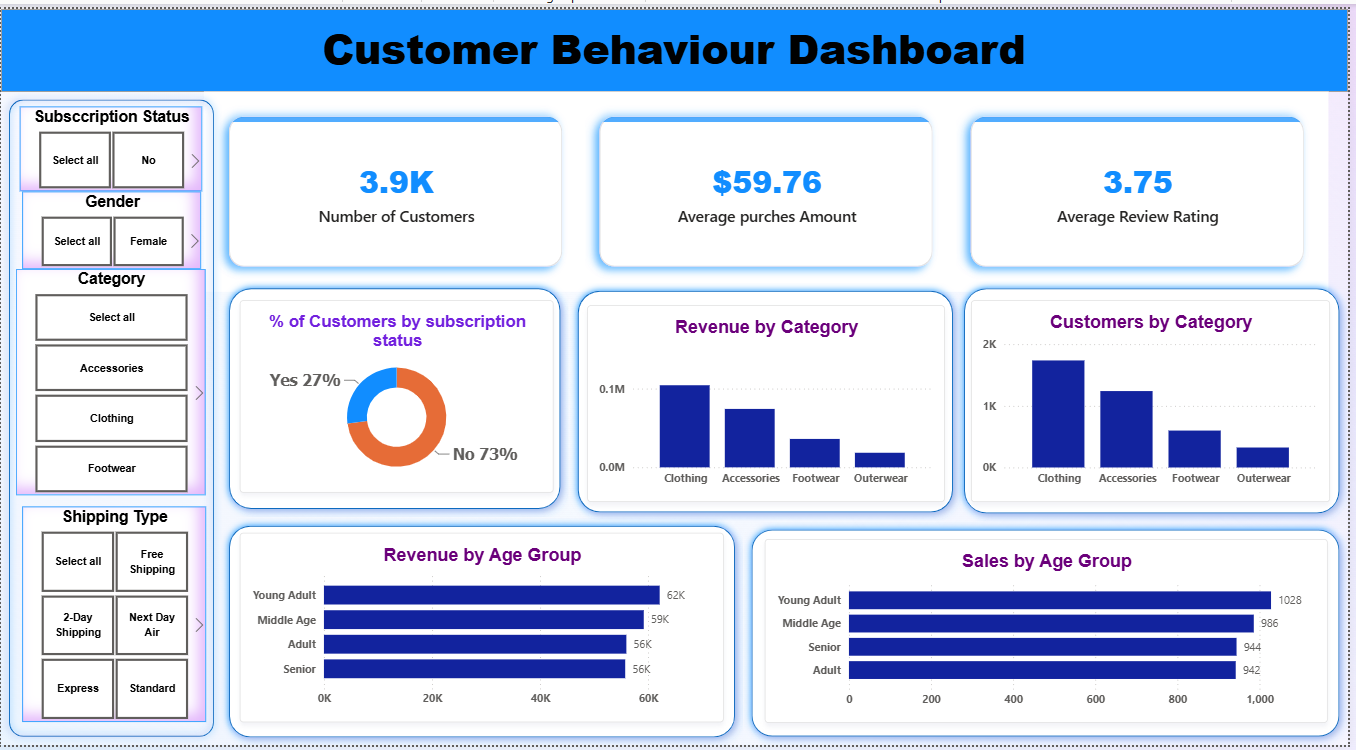

This screenshot's page, from the dashboard's own definition file:
{"tool":"powerbi","page":{"name":"Page 1","canvas":[1500,820],"ordinal":0},"visuals":[{"type":"textbox","title":"Customer Behaviour Dashboard","box":[0,0,1499.6,91.8],"z":0},{"type":"cardVisual","fields":{"Data":["Table.total_customers","Table.Average_purches_Amount","Table.Average_Review_Rating"]},"box":[206.5,91.8,1293.1,223.2],"z":1000},{"type":"shape","box":[245.2,302.6,387.2,263.8],"z":2000},{"type":"shape","box":[1063.5,302.6,436.2,268.8],"z":3000},{"type":"donutChart","title":"% of Customers by subscription status","fields":{"Category":["customer_behaviour customers.subscription_status"],"Y":["CountNonNull(customer_behaviour customers.customer_id)"]},"box":[265.4,324.6,350,214.7],"z":4000},{"type":"shape","box":[634,304.5,435.9,264.9],"z":5000},{"type":"clusteredColumnChart","title":"Revenue by Category","fields":{"Category":["customer_behaviour customers.category"],"Y":["Sum(customer_behaviour customers.purches_amount)"]},"box":[652.8,329.5,398.4,219],"z":6000},{"type":"clusteredColumnChart","title":"Customers by Category","fields":{"Category":["customer_behaviour customers.category"],"Y":["CountNonNull(customer_behaviour customers.customer_id)"]},"box":[1080.1,324.4,400.3,224.7],"z":7000},{"type":"shape","box":[0,91.8,246.1,727.9],"z":8000},{"type":"slicer","title":"Subsccription  Status","fields":{"Values":["customer_behaviour customers.subscription_status"]},"box":[20.3,108.2,202.9,94.7],"z":9000},{"type":"slicer","title":"Gender","fields":{"Values":["customer_behaviour customers.gender"]},"box":[23.7,202.9,199.5,86.2],"z":10000},{"type":"slicer","title":"Category","fields":{"Values":["customer_behaviour customers.category"]},"box":[16.9,289.1,211.3,251.9],"z":11000},{"type":"slicer","title":"Shipping Type","fields":{"Values":["customer_behaviour customers.shipping_type"]},"box":[23.7,554.6,204.6,240.1],"z":12000},{"type":"shape","box":[245.2,566.4,581.6,253.6],"z":13000},{"type":"shape","box":[826.8,571.5,672.9,248.5],"z":14000},{"type":"clusteredBarChart","title":"Revenue by Age Group","fields":{"Category":["customer_behaviour customers.age_group"],"Y":["Sum(customer_behaviour customers.purches_amount)"]},"box":[265.4,583.3,539.3,211.3],"z":15000},{"type":"clusteredBarChart","title":"Sales by Age Group","fields":{"Category":["customer_behaviour customers.age_group"],"Y":["CountNonNull(customer_behaviour customers.customer_id)"]},"box":[850.4,590.1,627.3,204.6],"z":15001}]}

Visuals, with their boxes in screenshot pixels (x1, y1, x2, y2), scaled from the page's 1500x820 canvas onto the 1356x750 screenshot:
"Customer Behaviour Dashboard" textbox: 0 0 1355 84
cardVisual - Table.total_customers x Table.Average_purches_Amount: 187 84 1355 288
shape: 222 277 572 518
shape: 961 277 1355 523
"% of Customers by subscription status" donutChart: 240 297 556 493
shape: 573 279 967 521
"Revenue by Category" clusteredColumnChart: 590 301 950 502
"Customers by Category" clusteredColumnChart: 976 297 1338 502
shape: 0 84 222 749
"Subsccription  Status" slicer: 18 99 202 186
"Gender" slicer: 21 186 202 264
"Category" slicer: 15 264 206 495
"Shipping Type" slicer: 21 507 206 727
shape: 222 518 747 749
shape: 747 523 1355 749
"Revenue by Age Group" clusteredBarChart: 240 534 727 727
"Sales by Age Group" clusteredBarChart: 769 540 1336 727
